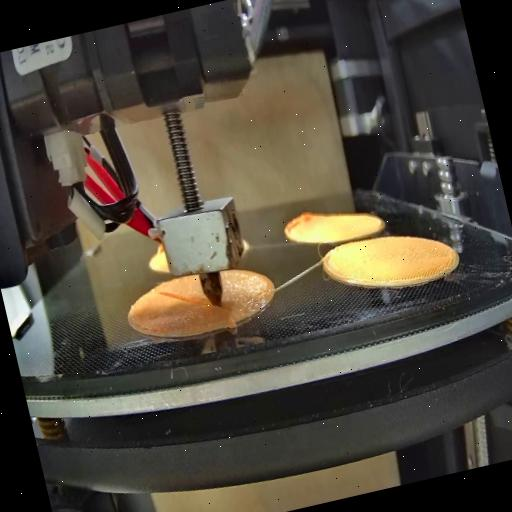over_extrusion: (155, 278, 207, 320), (279, 205, 322, 249), (153, 242, 165, 258)
